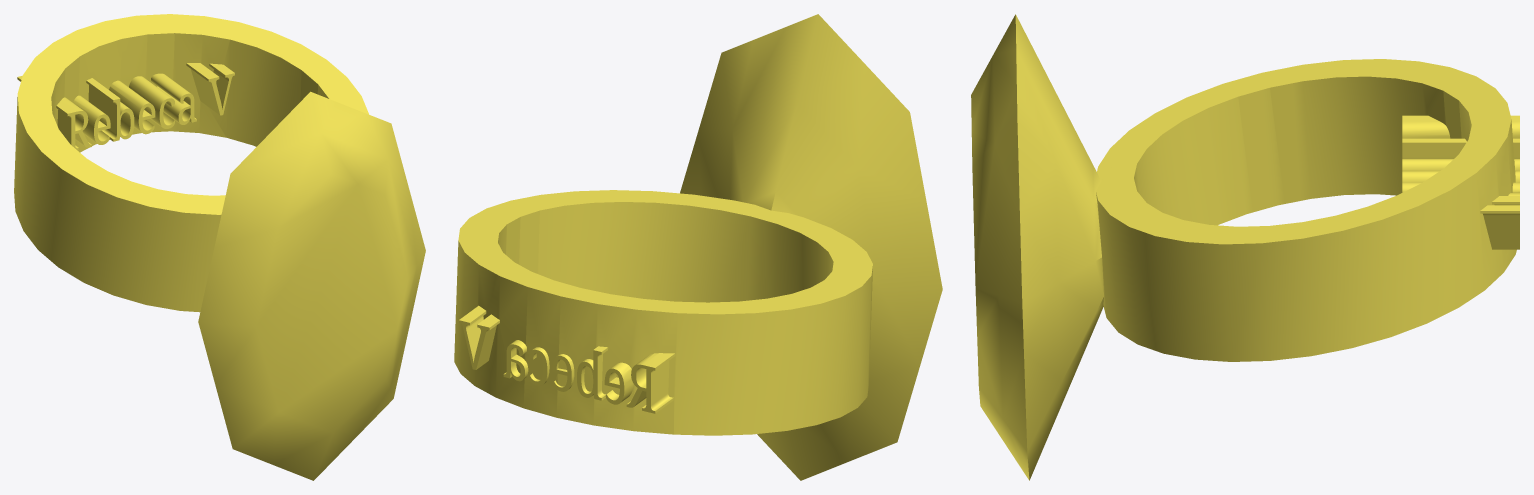
3 renders of one model, left to right at view 1: azimuth 30°, elevation 25°; view 2: azimuth 150°, elevation 25°; view 3: azimuth 270°, elevation 25°, orthographic. The views are drawn at different scales.
Parts seen in each view (by area): view 1: Object_2; view 2: Object_2; view 3: Object_2.
Boxes of the visible parts, x1,y1,x2,y2 form: Object_2: [14, 14, 425, 480]; Object_2: [454, 14, 942, 480]; Object_2: [971, 14, 1519, 480].
Size of the model in its own units: 21 by 26 by 28.
